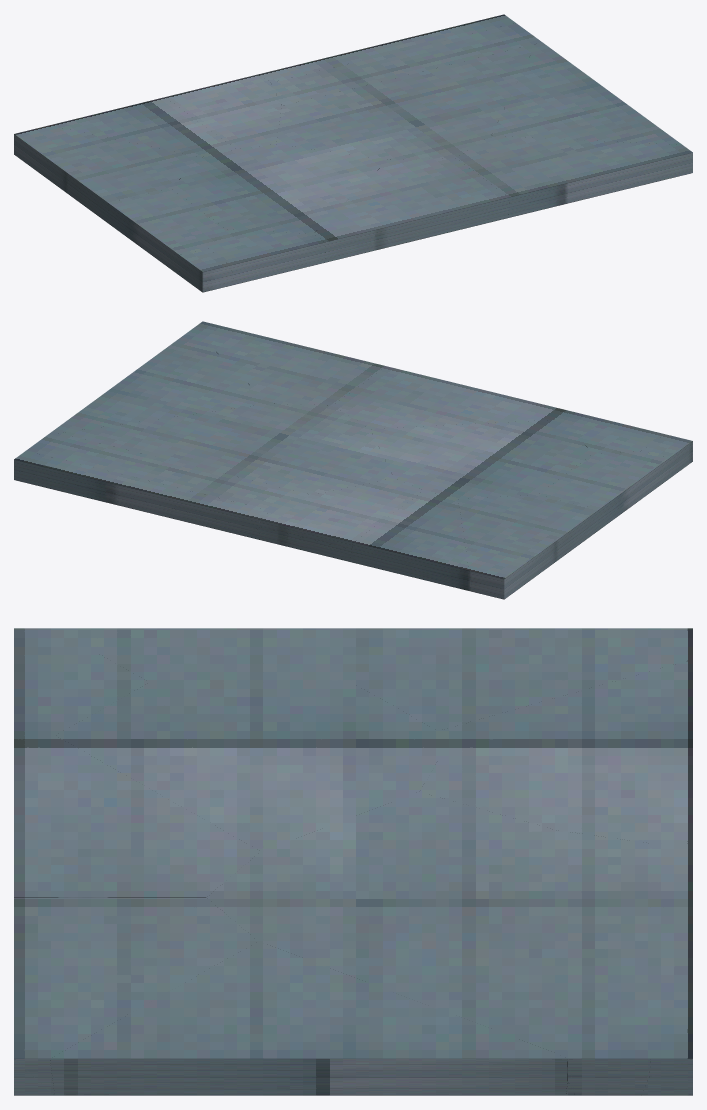
Rendered from Floor-Brk.gltf.
The picture shows the model from 3 angles, top to bottom: view 1: azimuth 30°, elevation 25°; view 2: azimuth 150°, elevation 25°; view 3: azimuth 270°, elevation 25°; orthographic projection. The views are drawn at different scales.
Visible parts, largest first — view 1: Cube_cell.009, Cube_cell, Cube_cell.010, Cube_cell.005, Cube_cell.011, Cube_cell.006, Cube_cell.002, Cube_cell.014, Cube_cell.013, Cube_cell.004, Cube_cell.001, Cube_cell.003 (+1 smaller); view 2: Cube_cell.009, Cube_cell, Cube_cell.006, Cube_cell.011, Cube_cell.010, Cube_cell.005, Cube_cell.004, Cube_cell.002, Cube_cell.013, Cube_cell.014, Cube_cell.003, Cube_cell.007 (+3 smaller); view 3: Cube_cell.009, Cube_cell.011, Cube_cell, Cube_cell.005, Cube_cell.010, Cube_cell.006, Cube_cell.002, Cube_cell.013, Cube_cell.004, Cube_cell.014, Cube_cell.003, Cube_cell.001 (+2 smaller).
Boxes of the visible parts, <box> form: Cube_cell.009: <box>276,44,535,159</box>; Cube_cell: <box>170,144,387,233</box>; Cube_cell.010: <box>313,158,509,262</box>; Cube_cell.005: <box>456,135,692,217</box>; Cube_cell.011: <box>492,40,682,144</box>; Cube_cell.006: <box>14,125,201,222</box>; Cube_cell.002: <box>271,23,538,105</box>; Cube_cell.014: <box>108,188,226,274</box>; Cube_cell.013: <box>165,74,281,148</box>; Cube_cell.004: <box>50,97,235,157</box>; Cube_cell.001: <box>208,229,325,284</box>; Cube_cell.003: <box>259,14,515,82</box>; Cube_cell.009: <box>58,403,393,494</box>; Cube_cell: <box>370,419,593,498</box>; Cube_cell.006: <box>458,494,598,599</box>; Cube_cell.011: <box>49,328,267,433</box>; Cube_cell.010: <box>333,366,570,429</box>; Cube_cell.005: <box>193,321,385,405</box>; Cube_cell.004: <box>350,490,471,591</box>; Cube_cell.002: <box>26,433,311,510</box>; Cube_cell.013: <box>259,478,423,549</box>; Cube_cell.014: <box>538,451,669,530</box>; Cube_cell.003: <box>14,451,270,529</box>; Cube_cell.007: <box>14,470,259,539</box>; Cube_cell.009: <box>206,792,575,1095</box>; Cube_cell.011: <box>50,941,567,1095</box>; Cube_cell: <box>55,682,437,851</box>; Cube_cell.005: <box>14,897,257,1095</box>; Cube_cell.010: <box>14,735,260,897</box>; Cube_cell.006: <box>351,628,692,730</box>; Cube_cell.002: <box>556,830,650,1095</box>; Cube_cell.013: <box>420,761,692,843</box>; Cube_cell.004: <box>438,659,692,760</box>; Cube_cell.014: <box>97,628,351,682</box>; Cube_cell.003: <box>649,843,692,1077</box>; Cube_cell.001: <box>14,653,149,735</box>.
Bounding box in the file's own units: 50 × 2 × 33.33.
Materials: 1 (1 with a texture image).
